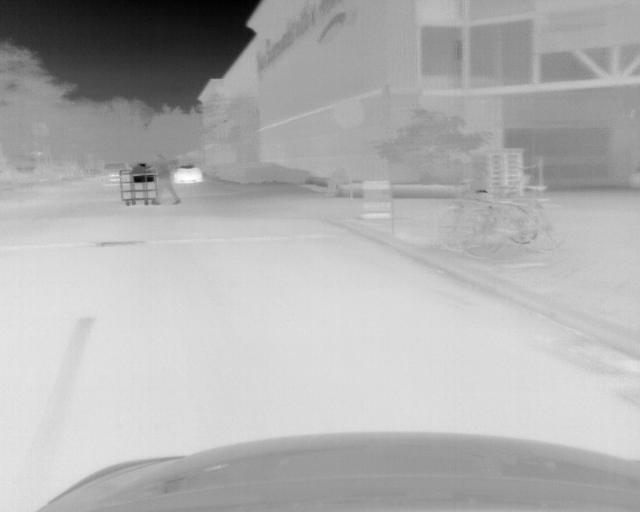bike: (435, 186, 548, 257), (457, 181, 553, 257)
car: (100, 161, 132, 191), (173, 162, 203, 184)
people: (150, 153, 182, 207)
